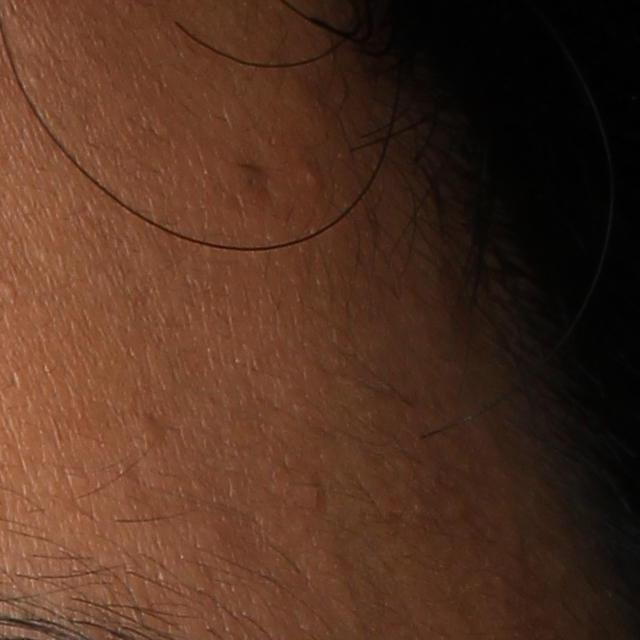comedo: (134, 415, 168, 451)
